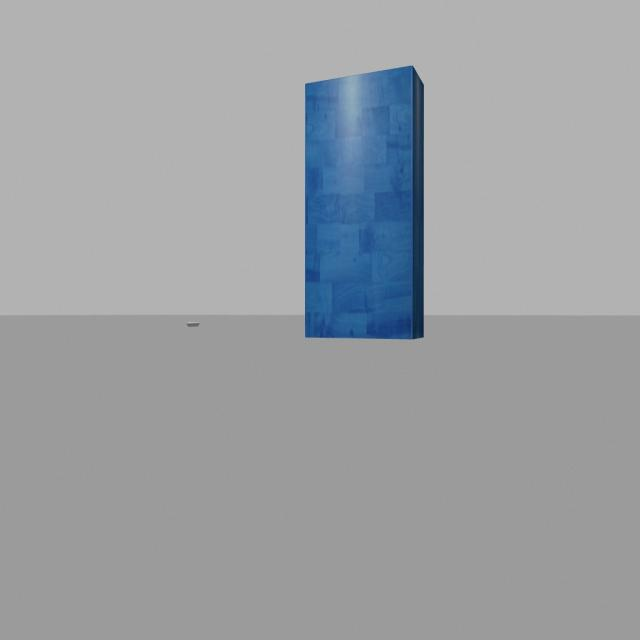bowl: (183, 320, 200, 330)
shelf: (298, 57, 426, 353)
